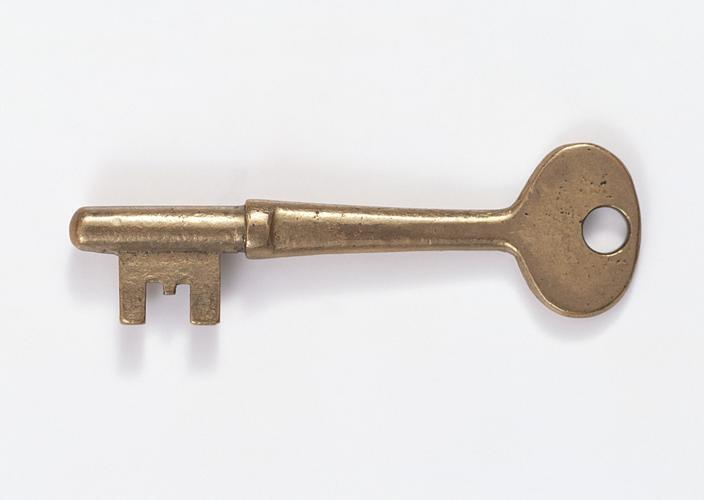key: (43, 124, 666, 376)
